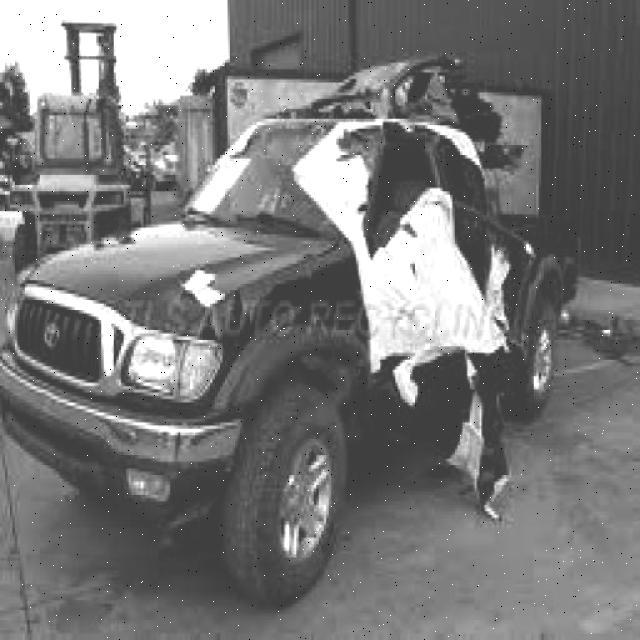car damage: (297, 54, 538, 533)
